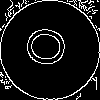O: (25, 25, 76, 70)
